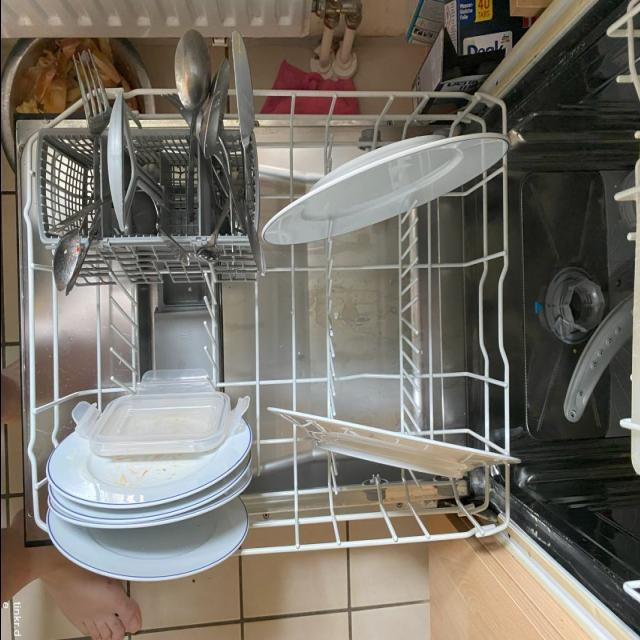clutery_bin: (34, 109, 268, 229)
empty_slot: (278, 251, 490, 412), (37, 262, 265, 377)
